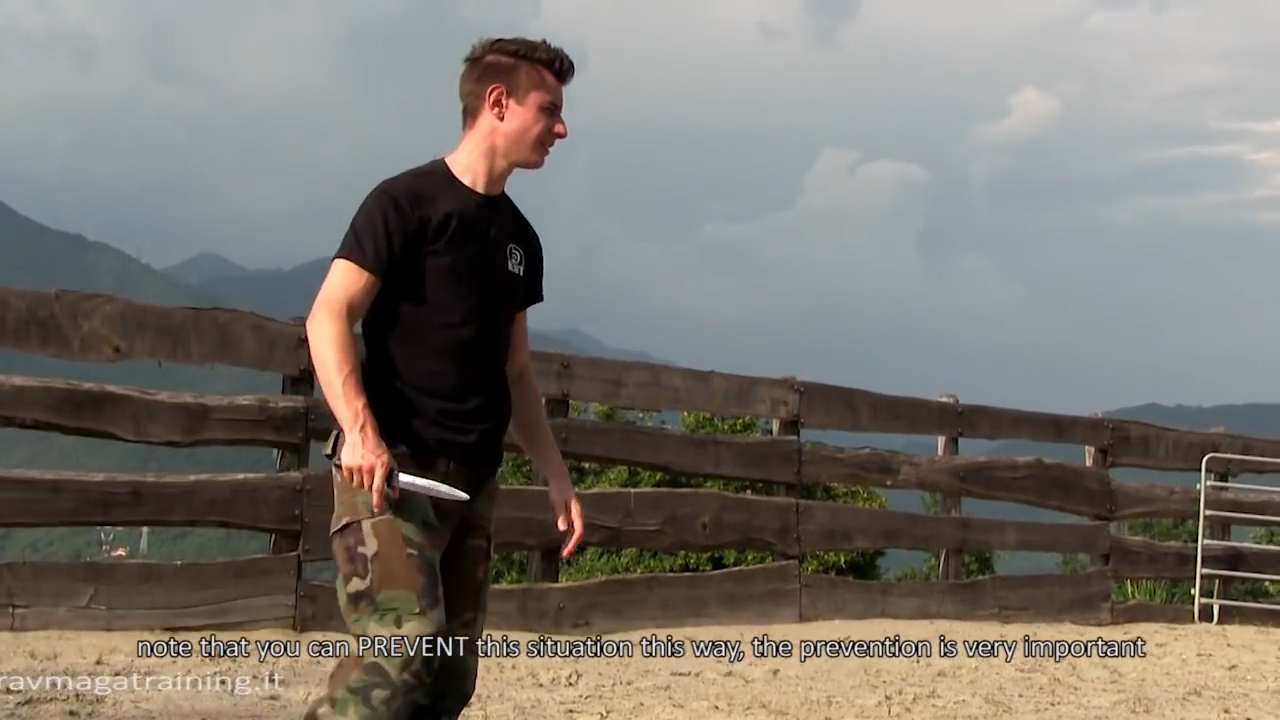knife: (322, 438, 487, 512)
